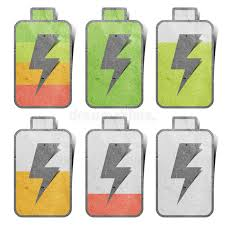charging sign: (5, 1, 75, 109), (79, 116, 149, 219), (83, 4, 149, 113), (7, 116, 78, 215), (155, 112, 220, 220), (157, 4, 216, 111)
